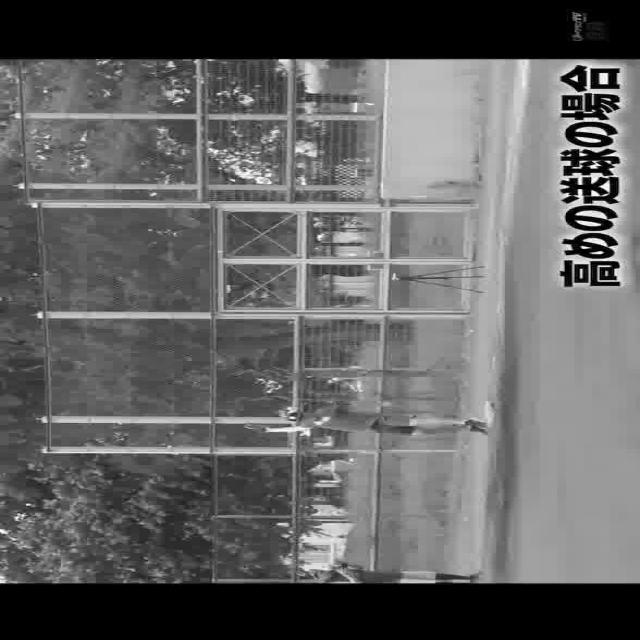base: (481, 402, 498, 428)
baseball_glove: (242, 422, 270, 432)
shoe: (462, 414, 484, 426), (468, 425, 486, 433)
